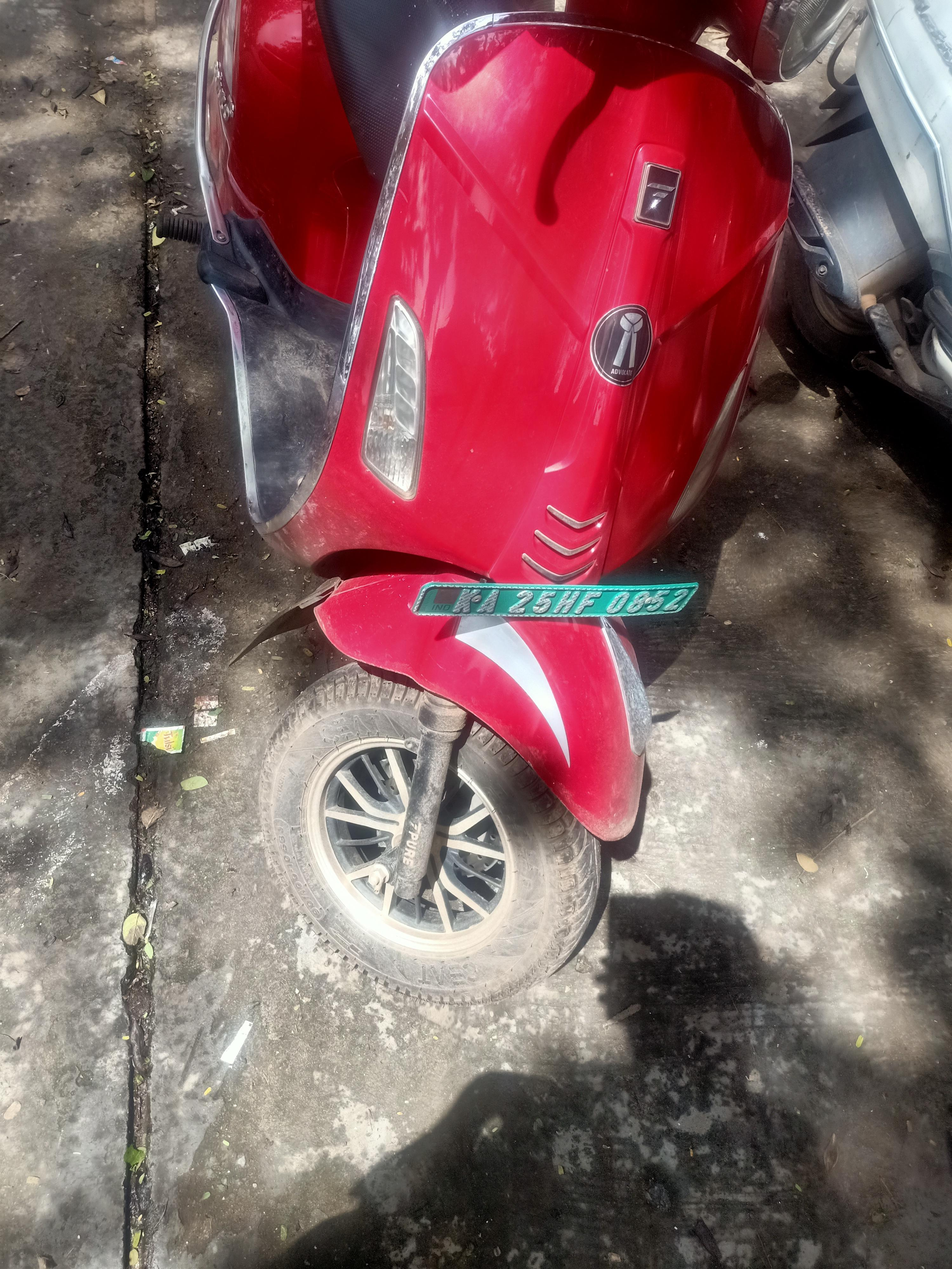green license plate: (399, 577, 709, 621)
